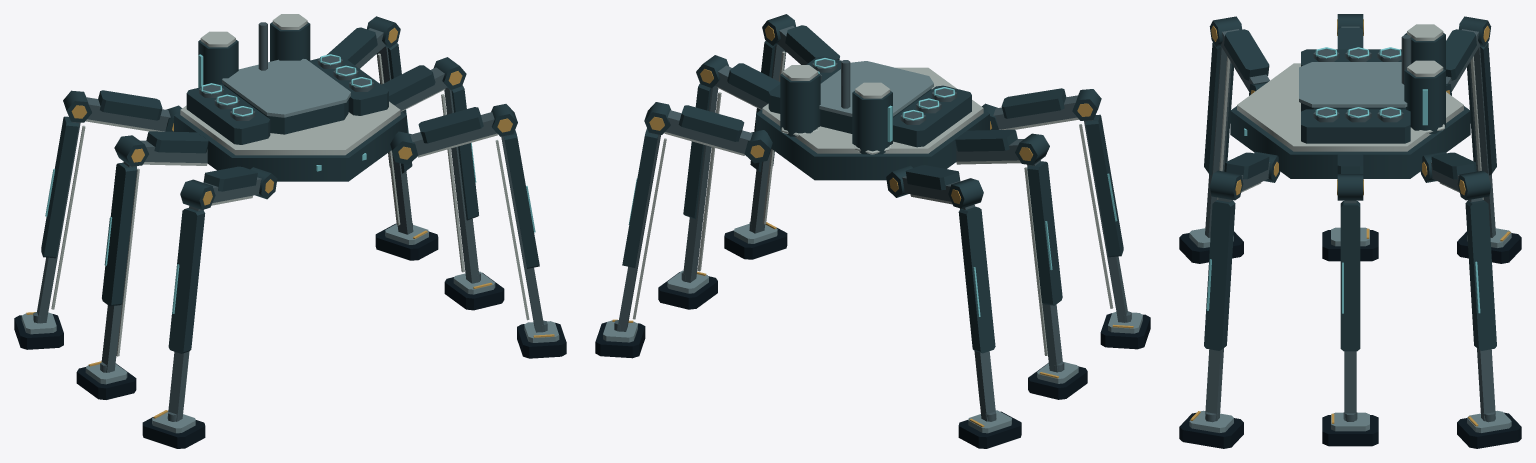
File: extractor_d0_lod2.glb
3 views of the same model, side by side, from view 1: azimuth 30°, elevation 25°; view 2: azimuth 150°, elevation 25°; view 3: azimuth 270°, elevation 25° (orthographic). The views are drawn at different scales.
Parts seen in each view (by area): view 1: DISTANCE_GEOMETRY; view 2: DISTANCE_GEOMETRY; view 3: DISTANCE_GEOMETRY.
Boxes of the visible parts, <box> form: DISTANCE_GEOMETRY: <box>14,14,566,448</box>; DISTANCE_GEOMETRY: <box>595,14,1150,448</box>; DISTANCE_GEOMETRY: <box>1179,14,1521,448</box>.
Size of the model in its own units: 18.59 by 12.7 by 12.82.
